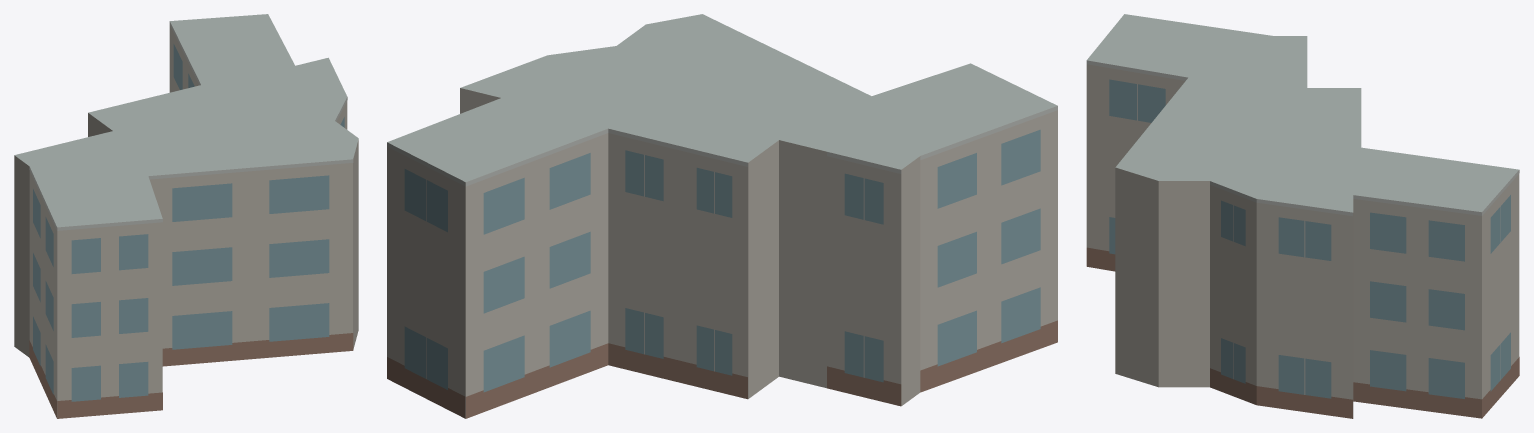
File: survey-upis-32465456.glb
3 views of the same model, side by side, from view 1: azimuth 30°, elevation 25°; view 2: azimuth 150°, elevation 25°; view 3: azimuth 270°, elevation 25° (orthographic). The views are drawn at different scales.
Visible parts, largest first — view 1: survey-upis-32465456.tmp; view 2: survey-upis-32465456.tmp; view 3: survey-upis-32465456.tmp.
Part boxes in pixels (box(x1,y1,x2,y2)): survey-upis-32465456.tmp: box(14, 14, 358, 418); survey-upis-32465456.tmp: box(387, 14, 1057, 418); survey-upis-32465456.tmp: box(1086, 14, 1519, 418).
Bounding box in the file's own units: 27.48 × 13.31 × 25.31.
